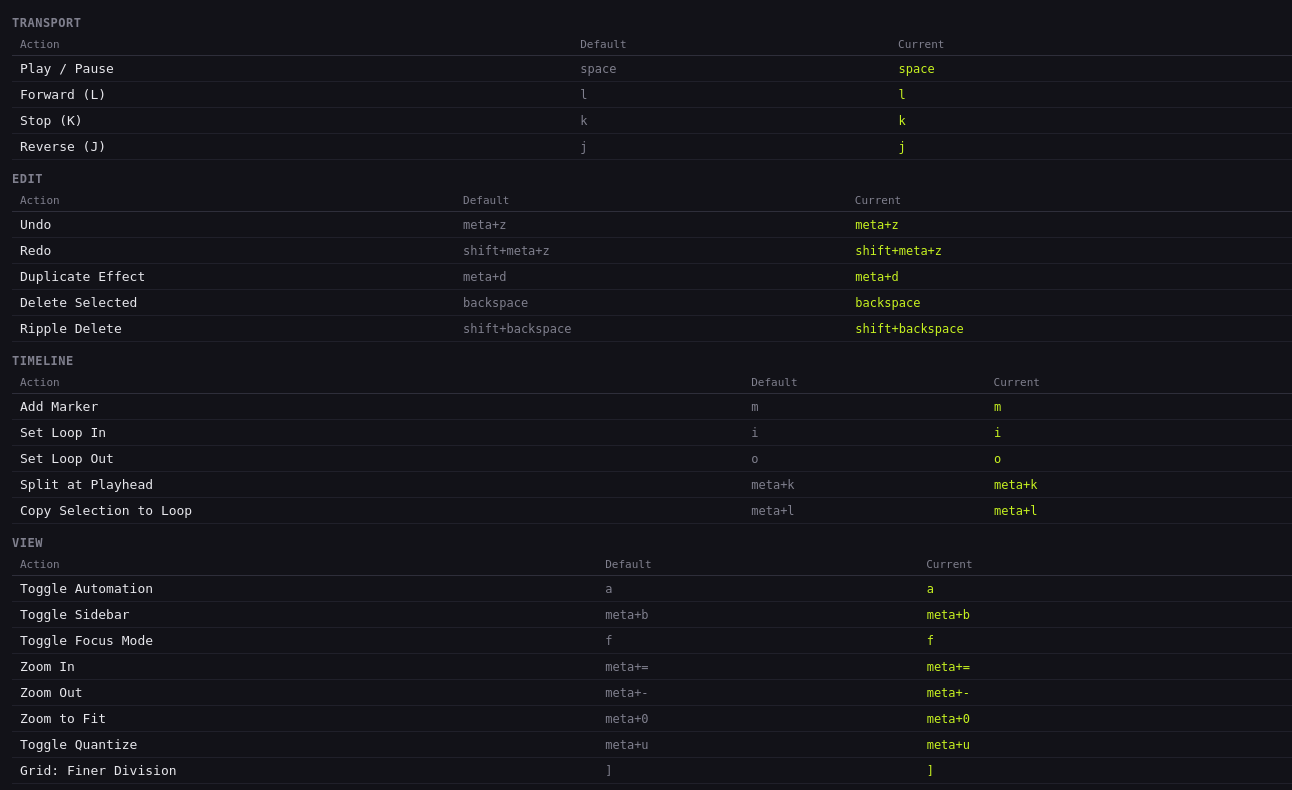
it: ShortcutEditor › click enters capture mode
Click the 1st cell with class "shortcut-editor__current" at (1049, 68), box top-left (890, 56), bottom-right (1208, 82)
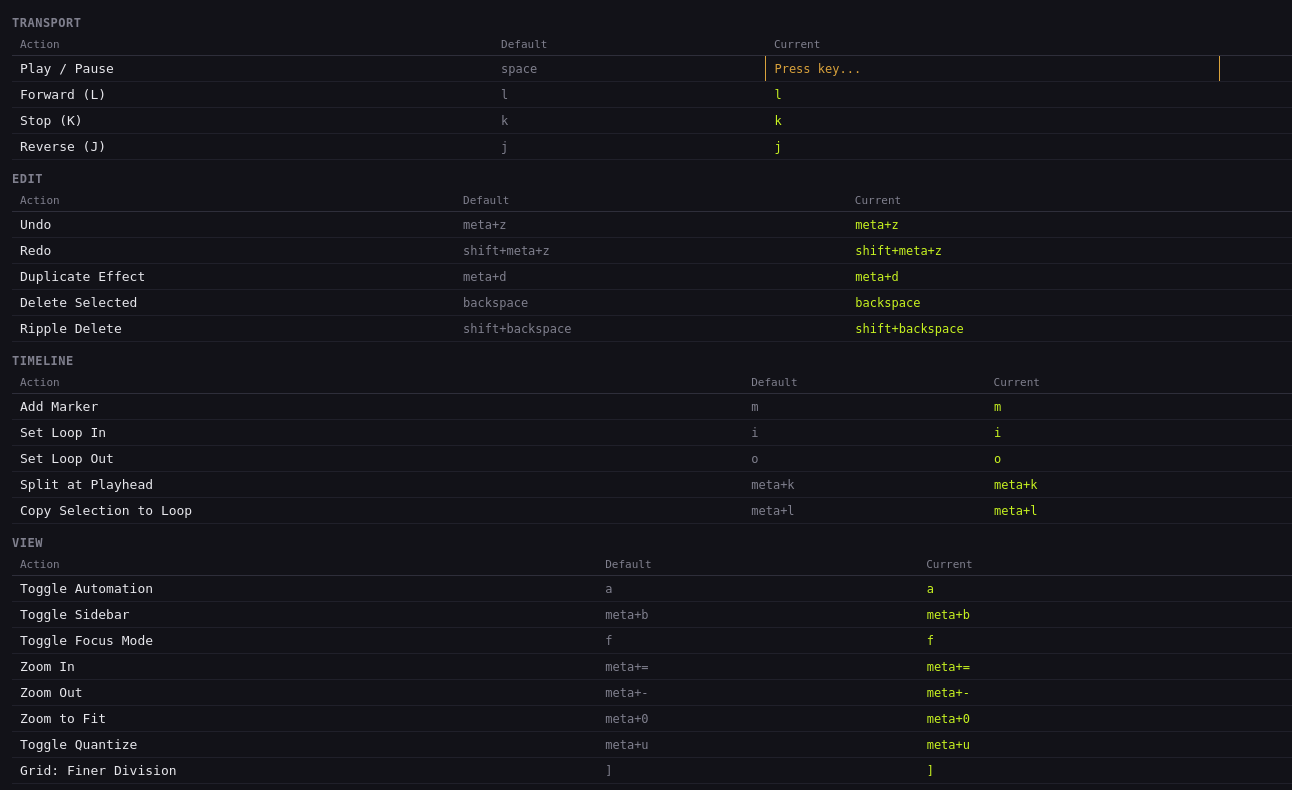
Now the cell with class "shortcut-editor__current" reads "Press key...", box top-left (774, 62), bottom-right (861, 76)
